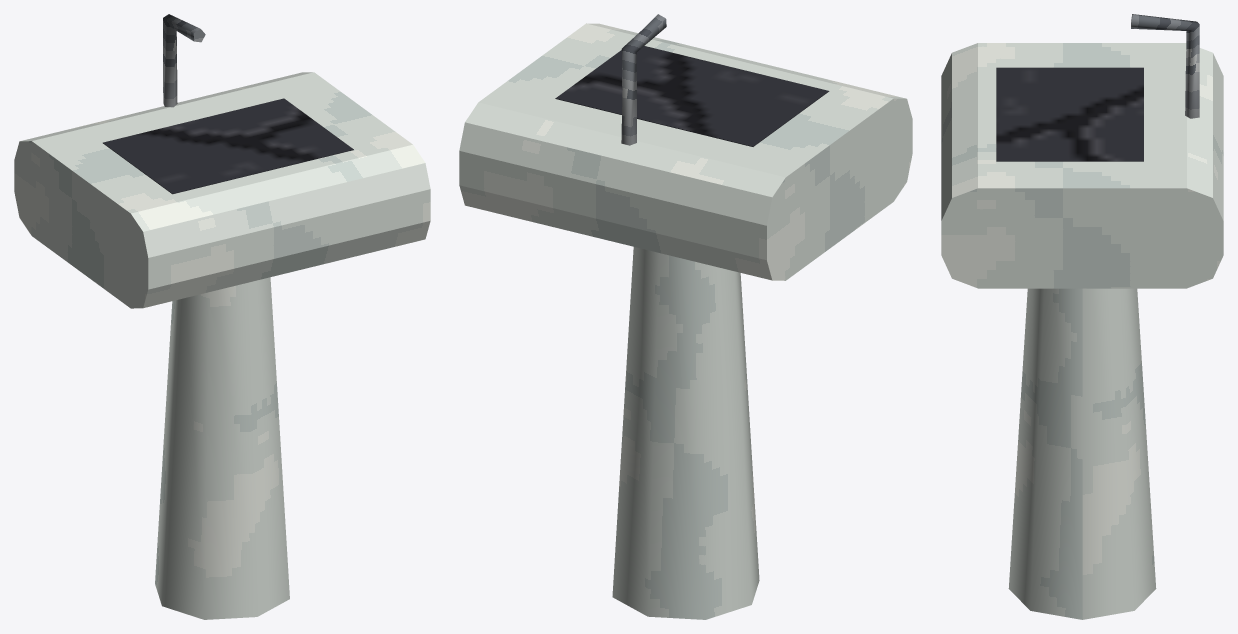
Rendered from RES_BathSink_Pedestal.obj.
3 renders of one model, left to right at view 1: azimuth 30°, elevation 25°; view 2: azimuth 150°, elevation 25°; view 3: azimuth 270°, elevation 25°, orthographic. The views are drawn at different scales.
Parts seen in each view (by area): view 1: RES_BathSink_Pedestal_Mesh_M_Res_Porcelain, RES_BathSink_Pedestal_Mesh_M_Road_RoadPatch, RES_BathSink_Pedestal_Mesh_M_Furn_MetalBrushed; view 2: RES_BathSink_Pedestal_Mesh_M_Res_Porcelain, RES_BathSink_Pedestal_Mesh_M_Road_RoadPatch, RES_BathSink_Pedestal_Mesh_M_Furn_MetalBrushed; view 3: RES_BathSink_Pedestal_Mesh_M_Res_Porcelain, RES_BathSink_Pedestal_Mesh_M_Road_RoadPatch, RES_BathSink_Pedestal_Mesh_M_Furn_MetalBrushed.
Boxes of the visible parts, box(x1,y1,x2,y2) form: RES_BathSink_Pedestal_Mesh_M_Res_Porcelain: box(14, 72, 430, 619); RES_BathSink_Pedestal_Mesh_M_Road_RoadPatch: box(103, 98, 353, 194); RES_BathSink_Pedestal_Mesh_M_Furn_MetalBrushed: box(163, 14, 205, 107); RES_BathSink_Pedestal_Mesh_M_Res_Porcelain: box(459, 23, 912, 619); RES_BathSink_Pedestal_Mesh_M_Road_RoadPatch: box(555, 46, 829, 146); RES_BathSink_Pedestal_Mesh_M_Furn_MetalBrushed: box(621, 14, 666, 145); RES_BathSink_Pedestal_Mesh_M_Res_Porcelain: box(941, 43, 1223, 619); RES_BathSink_Pedestal_Mesh_M_Road_RoadPatch: box(996, 67, 1143, 161); RES_BathSink_Pedestal_Mesh_M_Furn_MetalBrushed: box(1131, 14, 1199, 118).
Size of the model in its own units: 0.56 by 1.03 by 0.46.
3 materials, 3 textured.
